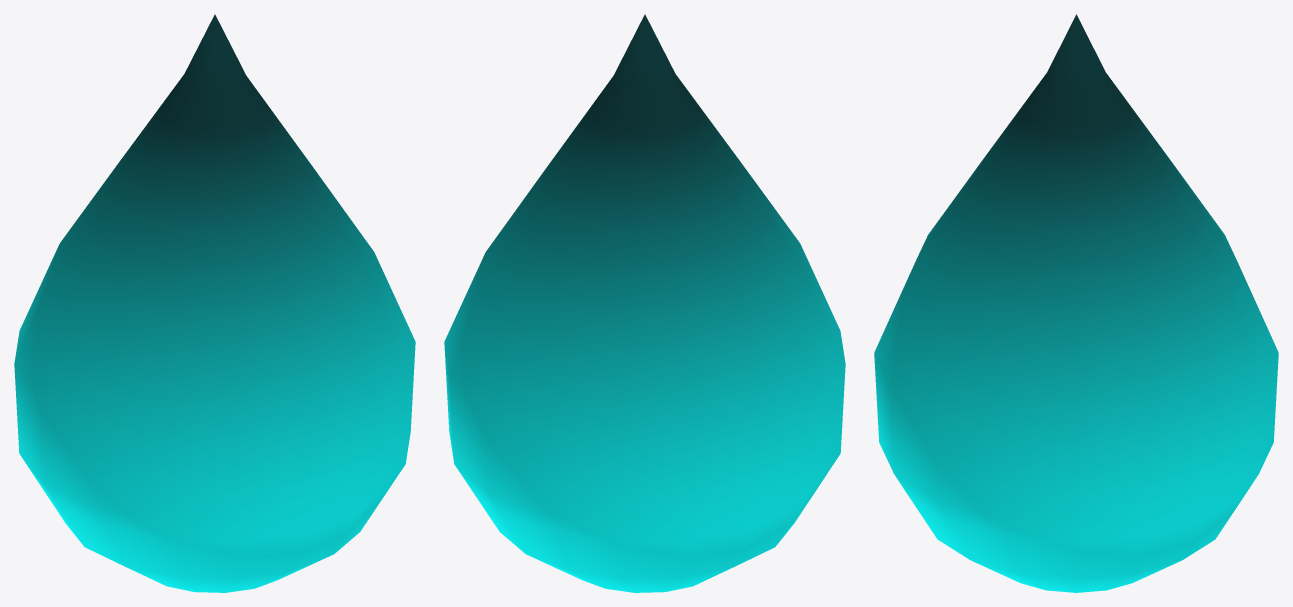
Rendered from WaterDrop_100.glb.
3 renders of one model, left to right at view 1: azimuth 30°, elevation 25°; view 2: azimuth 150°, elevation 25°; view 3: azimuth 270°, elevation 25°, orthographic.
Visible parts, largest first — view 1: WaterDrop_100; view 2: WaterDrop_100; view 3: WaterDrop_100.
Part boxes in pixels (<box>): WaterDrop_100: <box>14,14,415,592</box>; WaterDrop_100: <box>444,14,845,592</box>; WaterDrop_100: <box>874,14,1278,592</box>.
Bounding box in the file's own units: 0.5885 × 0.8904 × 0.5885.
Materials: 1 (1 with a texture image).
